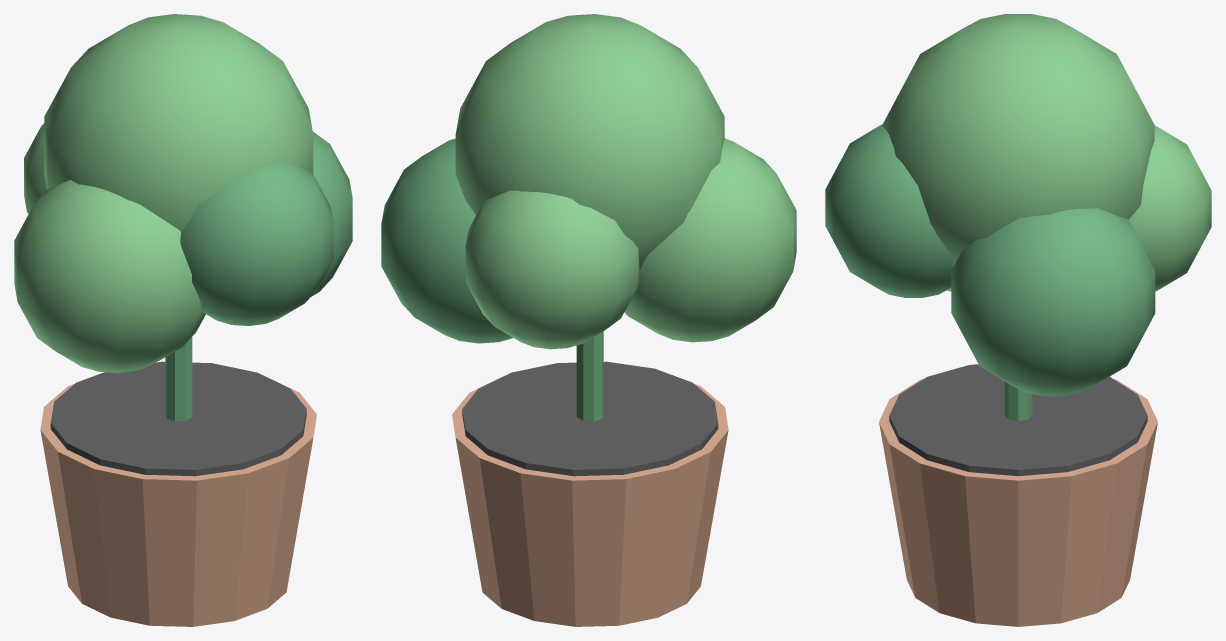
The model's file is plant.glb.
3 renders of one model, left to right at view 1: azimuth 30°, elevation 25°; view 2: azimuth 150°, elevation 25°; view 3: azimuth 270°, elevation 25°, orthographic.
Visible parts, largest first — view 1: Plant; view 2: Plant; view 3: Plant.
Part boxes in pixels (box(x1,y1,x2,y2)): Plant: box(14, 14, 352, 626); Plant: box(381, 14, 796, 626); Plant: box(825, 14, 1211, 626).
Size of the model in its own units: 1.15 by 1.75 by 1.11.
